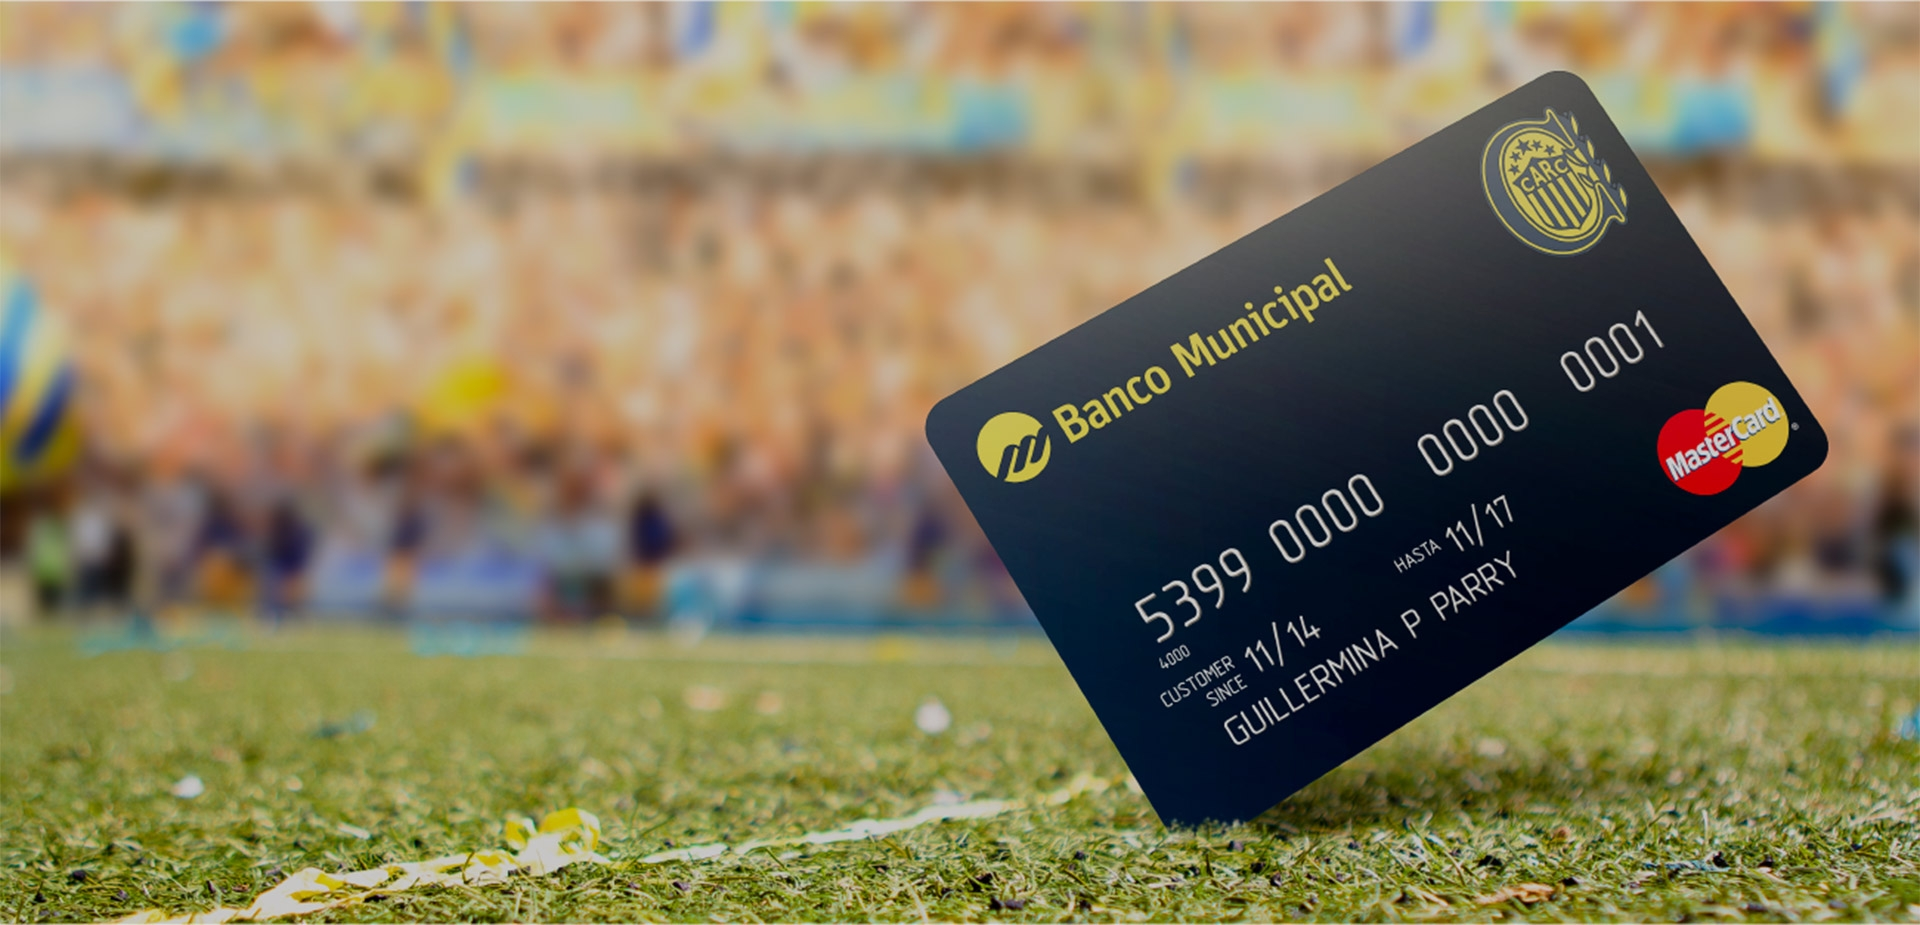tarjeta: (924, 69, 1828, 829)
